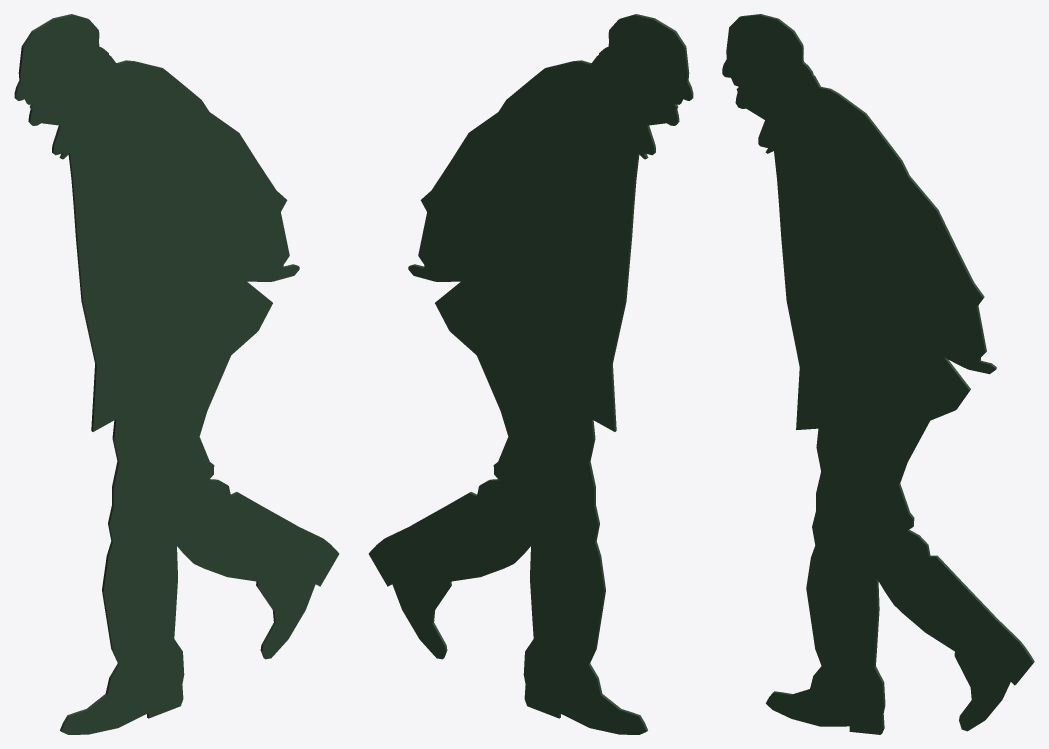
Rendered from elderman_moving.fbx.
3 renders of one model, left to right at view 1: azimuth 30°, elevation 25°; view 2: azimuth 150°, elevation 25°; view 3: azimuth 330°, elevation 25°, orthographic. The views are drawn at different scales.
Parts seen in each view (by area): view 1: elderman_moving; view 2: elderman_moving; view 3: elderman_moving.
Boxes of the visible parts, <box> form: elderman_moving: <box>14,14,339,734</box>; elderman_moving: <box>368,14,693,734</box>; elderman_moving: <box>722,14,1034,734</box>.
Size of the model in its own units: 19.71 by 42.17 by 0.1841.
